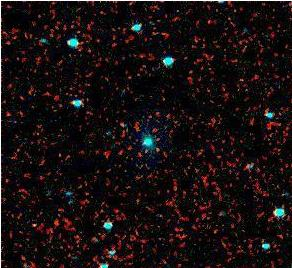star: (19, 210, 49, 240)
